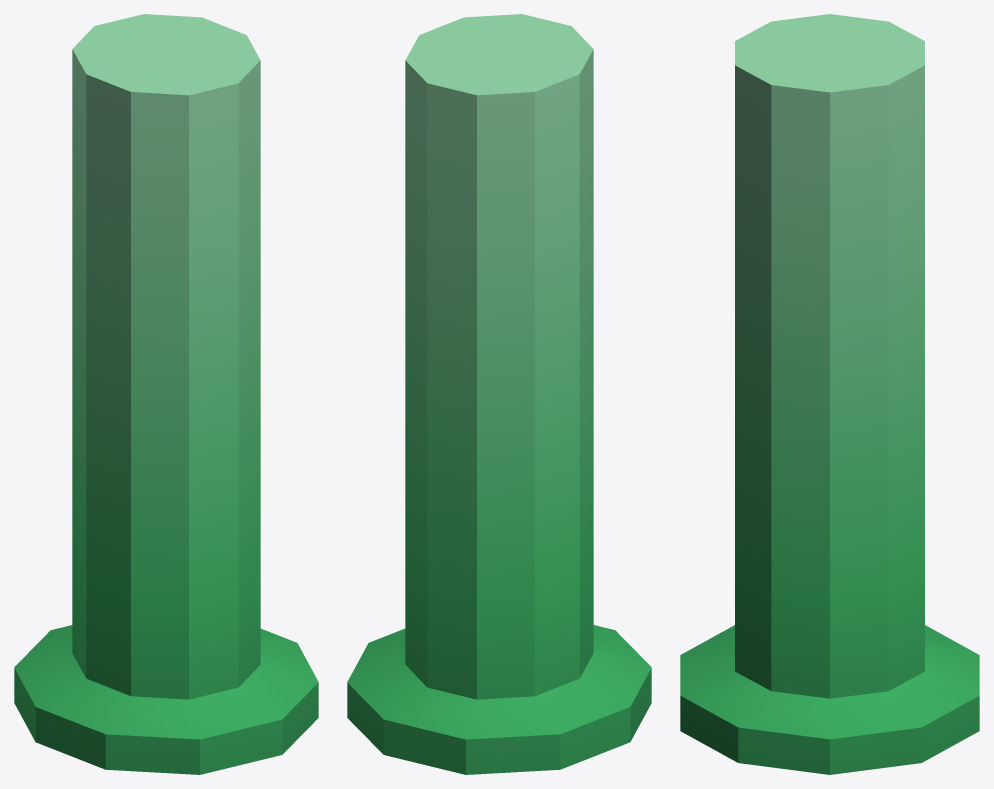
The model's file is Grip_Two.fbx.
3 renders of one model, left to right at view 1: azimuth 30°, elevation 25°; view 2: azimuth 150°, elevation 25°; view 3: azimuth 270°, elevation 25°, orthographic.
Visible parts, largest first — view 1: Grip_Two; view 2: Grip_Two; view 3: Grip_Two.
Boxes of the visible parts, bbox=[...] form: Grip_Two: bbox=[14, 14, 318, 774]; Grip_Two: bbox=[347, 14, 651, 774]; Grip_Two: bbox=[680, 14, 979, 774].
Bounding box in the file's own units: 1.22 × 3 × 1.21.
